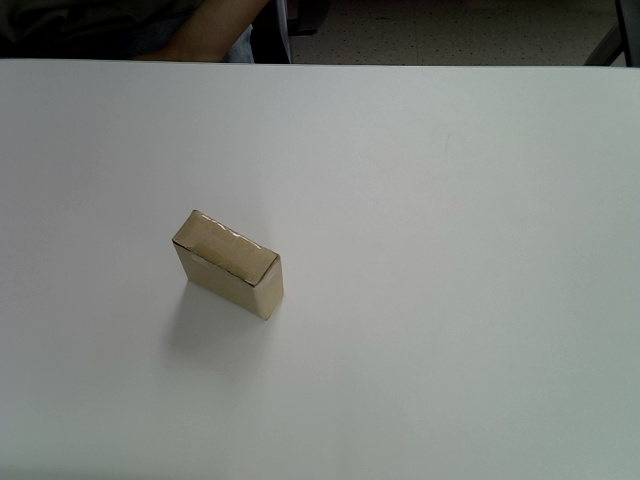normal: (172, 209, 284, 322)
